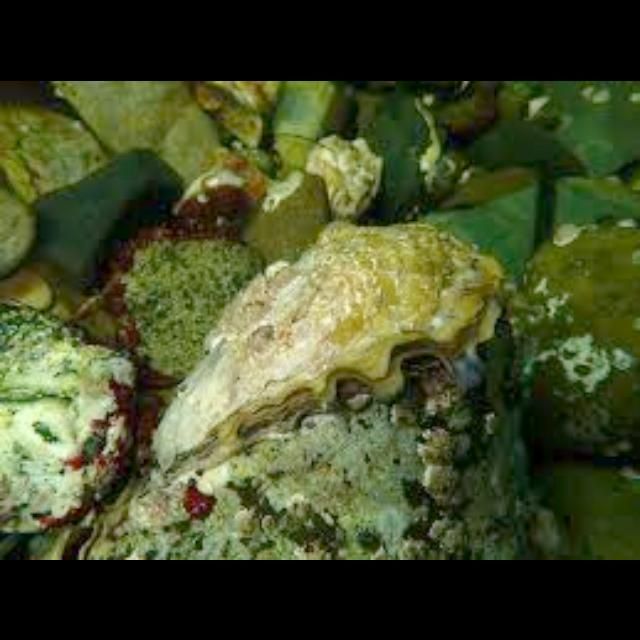Oyster-Closed: (154, 216, 518, 468), (79, 396, 553, 560), (0, 294, 136, 536), (126, 236, 266, 374)
